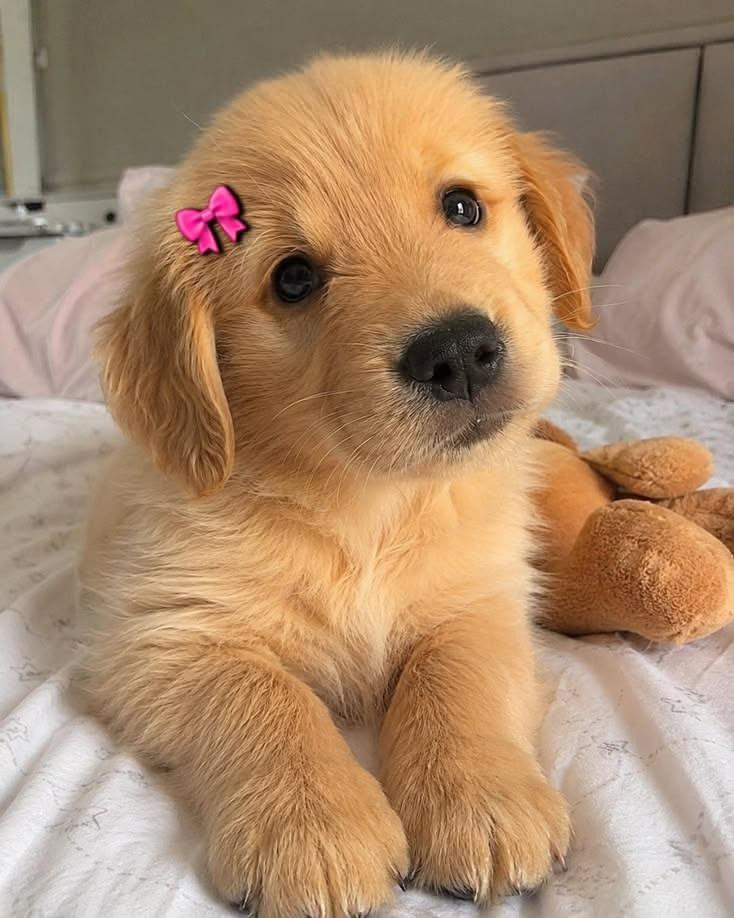puppy-dog: (66, 42, 601, 918)
